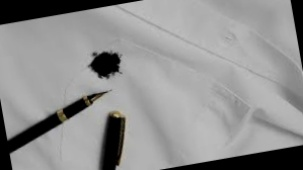ink: (89, 51, 125, 81)
